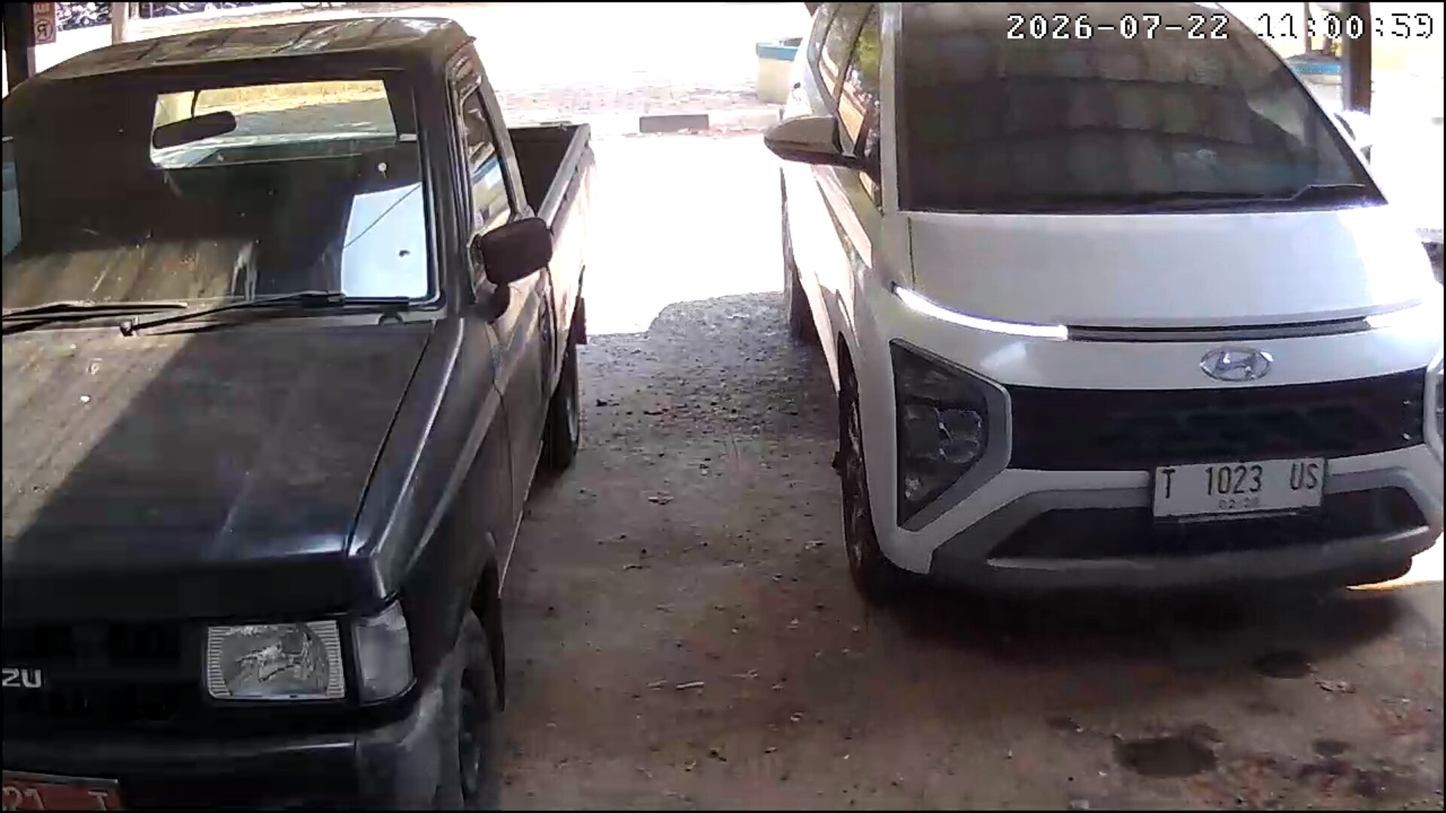plat nomor: (1151, 455, 1325, 520)
